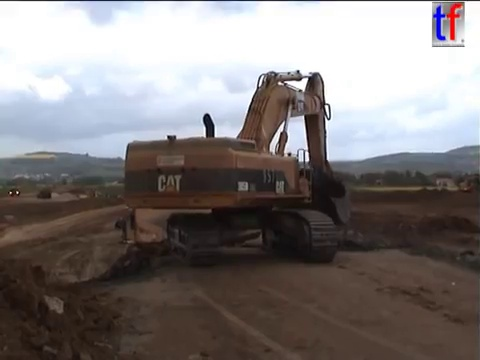excavator: (115, 67, 354, 267)
truck: (112, 201, 263, 285), (35, 187, 53, 200), (6, 184, 22, 198)
